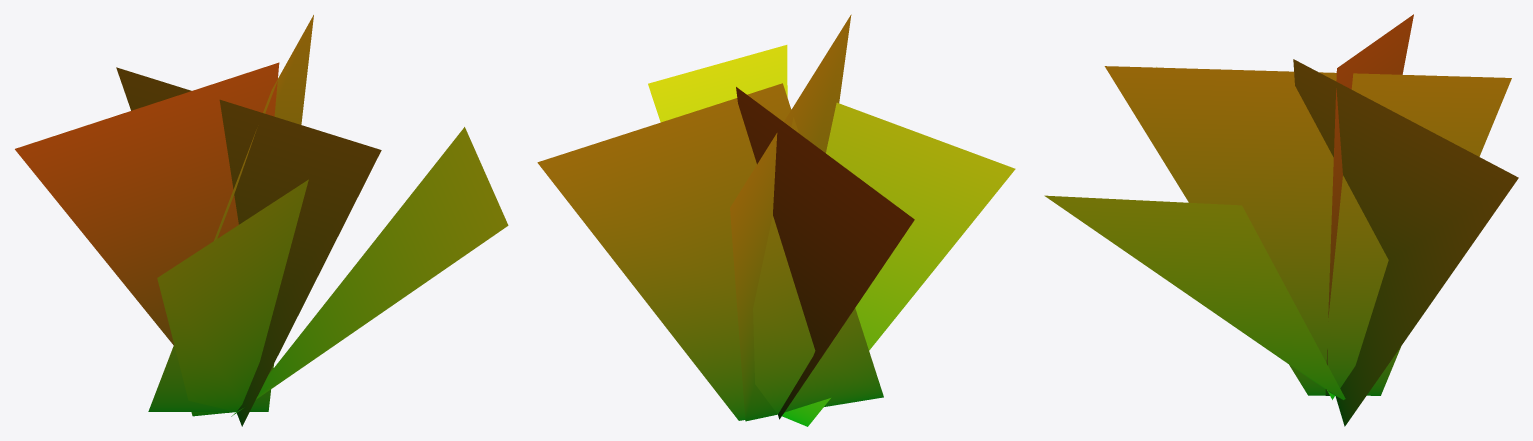
The model's file is Ocean Seaweed_LOD2_Var2_sdDkn.fbx.
3 views of the same model, side by side, from view 1: azimuth 30°, elevation 25°; view 2: azimuth 150°, elevation 25°; view 3: azimuth 270°, elevation 25° (orthographic). The views are drawn at different scales.
Visible parts, largest first — view 1: _38cf_Var2_LOD2; view 2: _38cf_Var2_LOD2; view 3: _38cf_Var2_LOD2.
Part boxes in pixels (x1,y1,x2,y2): _38cf_Var2_LOD2: (15, 15, 508, 426); _38cf_Var2_LOD2: (537, 14, 1015, 426); _38cf_Var2_LOD2: (1044, 14, 1518, 426).
Bounding box in the file's own units: 36.66 × 33.48 × 39.78.
